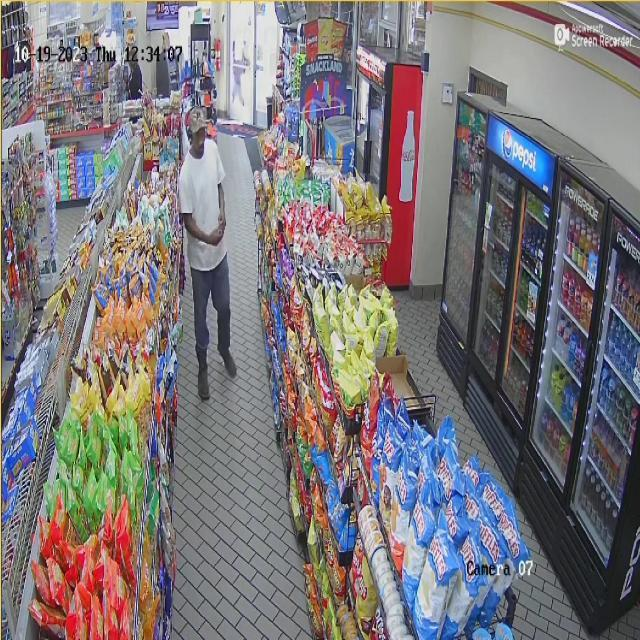Normal: (174, 94, 240, 412)
